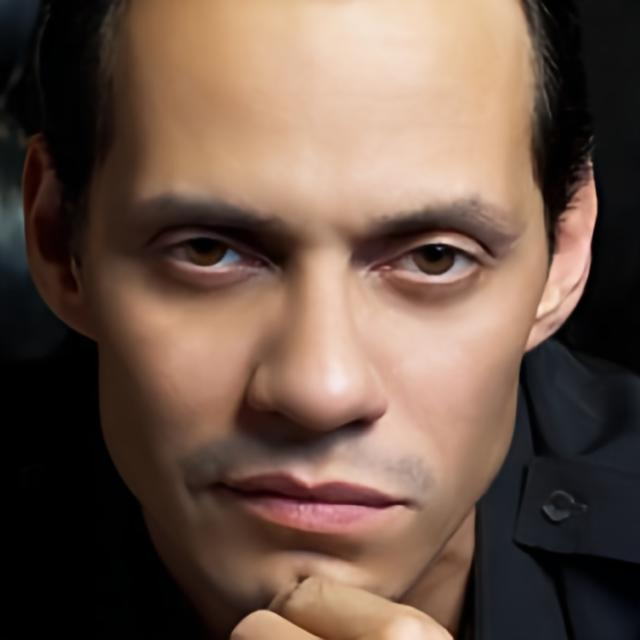anger: (92, 29, 526, 616)
